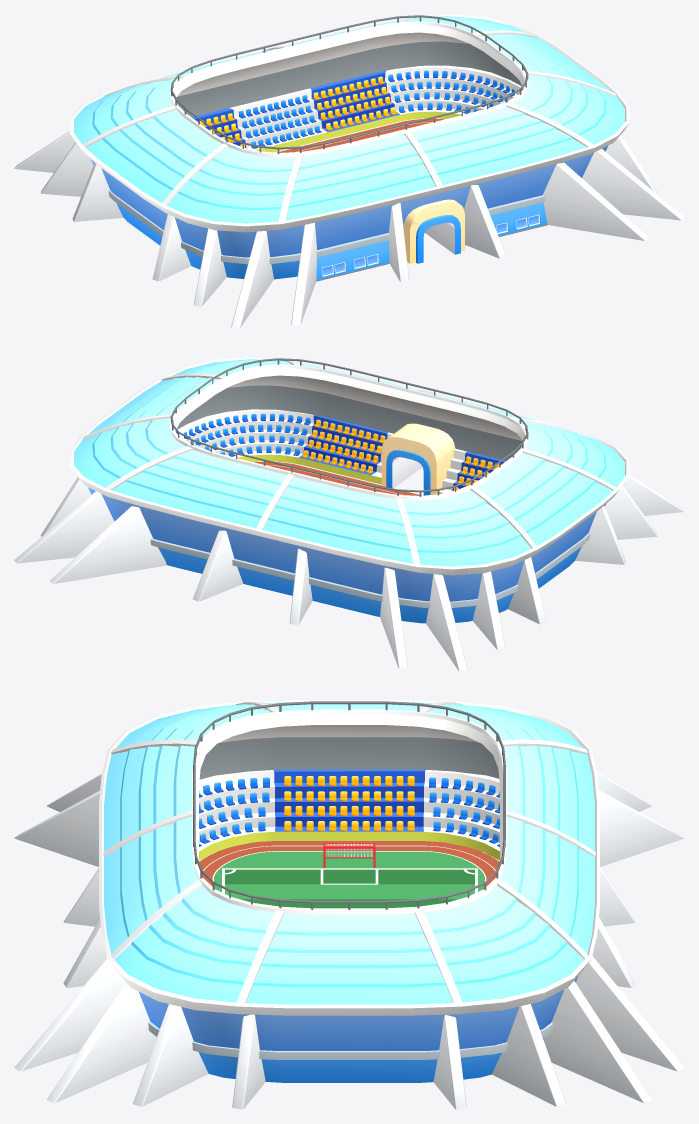
File: city2-stadium-01.glb
The picture shows the model from 3 angles, top to bottom: view 1: azimuth 30°, elevation 25°; view 2: azimuth 150°, elevation 25°; view 3: azimuth 270°, elevation 25°; orthographic projection. The views are drawn at different scales.
Visible parts, largest first — view 1: Stadium_01; view 2: Stadium_01; view 3: Stadium_01.
Part boxes in pixels (x1,y1,x2,y2): Stadium_01: [14, 14, 684, 328]; Stadium_01: [14, 357, 684, 671]; Stadium_01: [14, 700, 684, 1109].
Bounding box in the file's own units: 97.24 × 21.97 × 87.92.
1 material, 1 textured.
